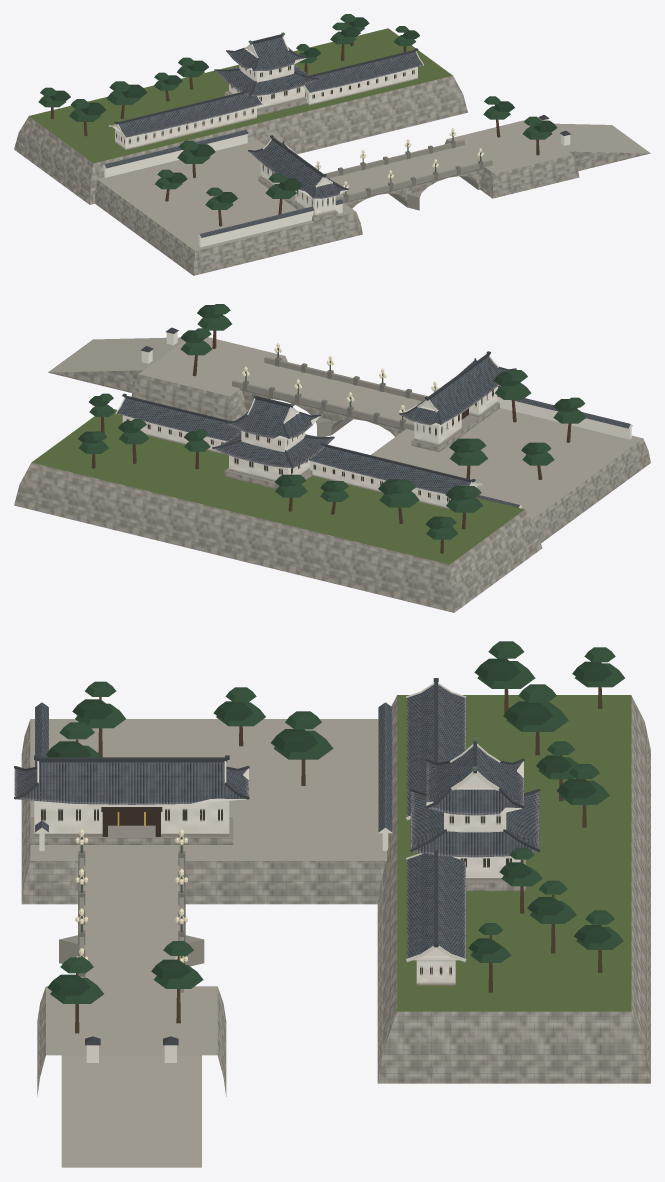
Rendered from imperial_palace_nijubashi.glb.
The picture shows the model from 3 angles, top to bottom: view 1: azimuth 30°, elevation 25°; view 2: azimuth 150°, elevation 25°; view 3: azimuth 270°, elevation 25°; orthographic projection. The views are drawn at different scales.
Visible parts, largest first — view 1: imperial_palace_nijubashi; view 2: imperial_palace_nijubashi; view 3: imperial_palace_nijubashi.
Part boxes in pixels (box(x1,y1,x2,y2)): imperial_palace_nijubashi: box(14, 14, 650, 275); imperial_palace_nijubashi: box(14, 304, 650, 612); imperial_palace_nijubashi: box(14, 641, 650, 1167).
Bounding box in the file's own units: 127 × 25.07 × 81.62.
Materials: 3 (3 with a texture image).
